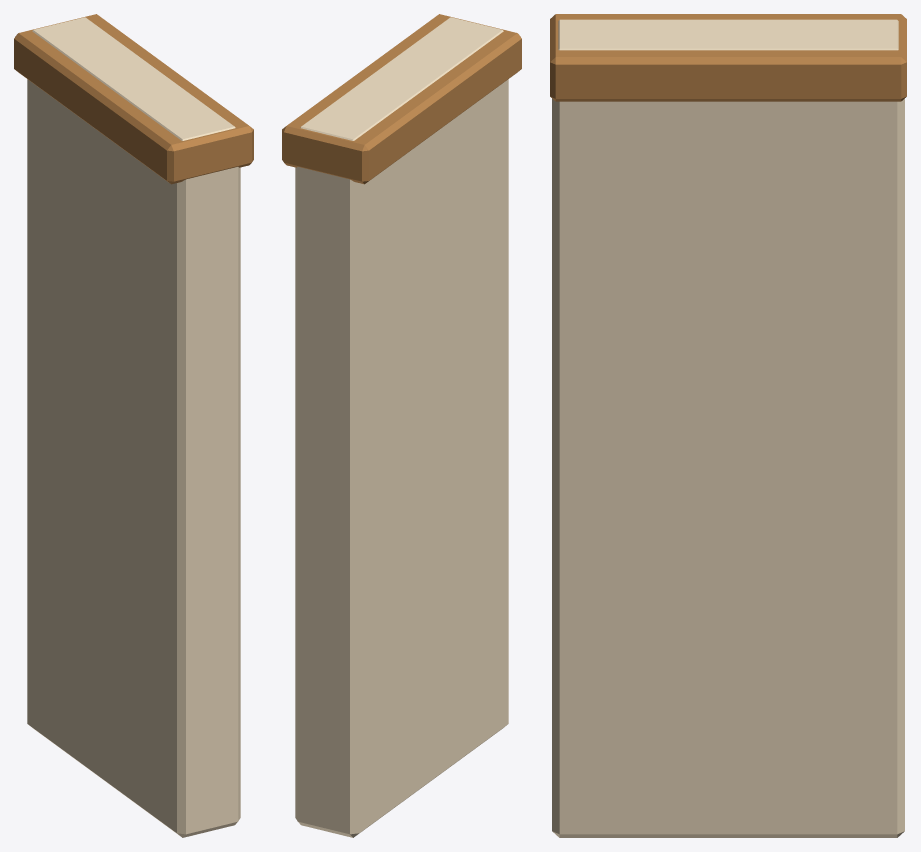
The model's file is mod_wall_curved_r2.62_n18_plain.glb.
The picture shows the model from 3 angles, left to right: view 1: azimuth 30°, elevation 25°; view 2: azimuth 150°, elevation 25°; view 3: azimuth 270°, elevation 25°; orthographic projection. The views are drawn at different scales.
Visible parts, largest first — view 1: mod_wall_curved_r2.62_n18_plain; view 2: mod_wall_curved_r2.62_n18_plain; view 3: mod_wall_curved_r2.62_n18_plain.
Boxes of the visible parts, x1,y1,x2,y2 form: mod_wall_curved_r2.62_n18_plain: (14,14,253,837); mod_wall_curved_r2.62_n18_plain: (282,14,521,837); mod_wall_curved_r2.62_n18_plain: (550,14,906,837).
Size of the model in its own units: 0.3 by 2.3 by 0.944.
